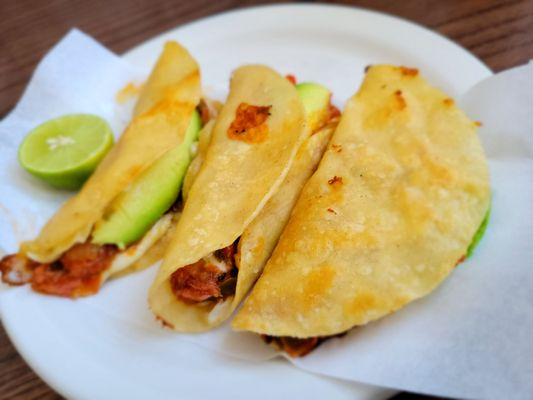soup: (228, 63, 493, 358), (0, 41, 215, 301), (147, 63, 339, 334)
